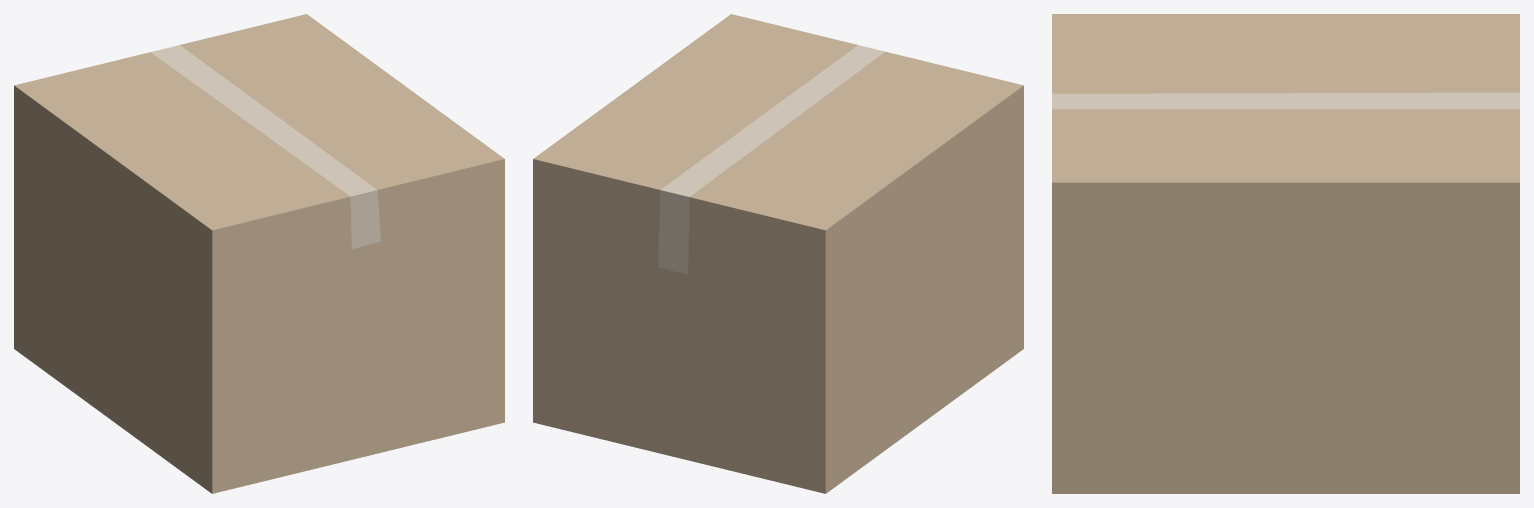
File: stock3.fbx
3 views of the same model, side by side, from view 1: azimuth 30°, elevation 25°; view 2: azimuth 150°, elevation 25°; view 3: azimuth 270°, elevation 25° (orthographic). The views are drawn at different scales.
Visible parts, largest first — view 1: Cube_2; view 2: Cube_2; view 3: Cube_2.
Part boxes in pixels (x1,y1,x2,y2): Cube_2: [14, 14, 504, 493]; Cube_2: [533, 14, 1023, 493]; Cube_2: [1052, 14, 1519, 493].
Size of the model in its own units: 50.82 by 43.73 by 59.57.
